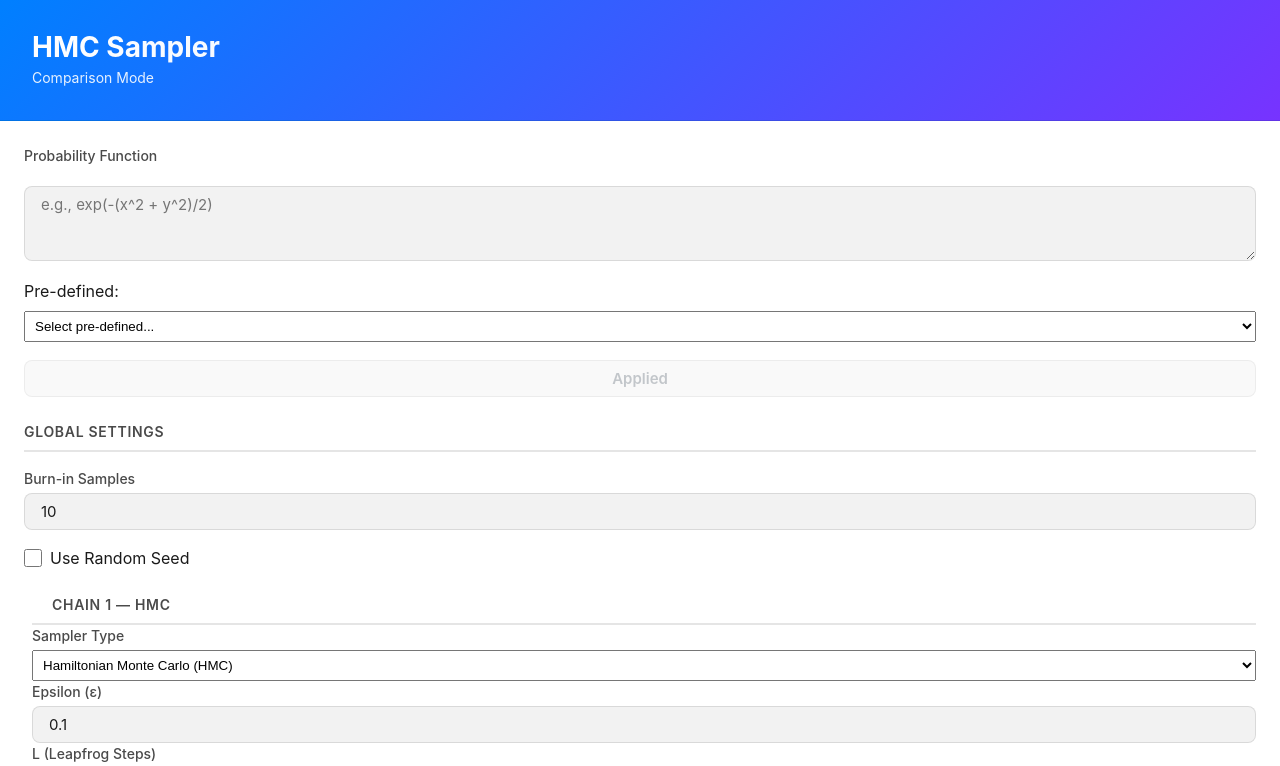
Test: Controls Component › Pre-defined Functions Selection › should update draft state when a pre-defined function is selected
Select Gaussian
Select "Gaussian" in the dropdown labelled "Pre-defined:" at (640,326), box left=24, top=311, right=1256, bottom=342
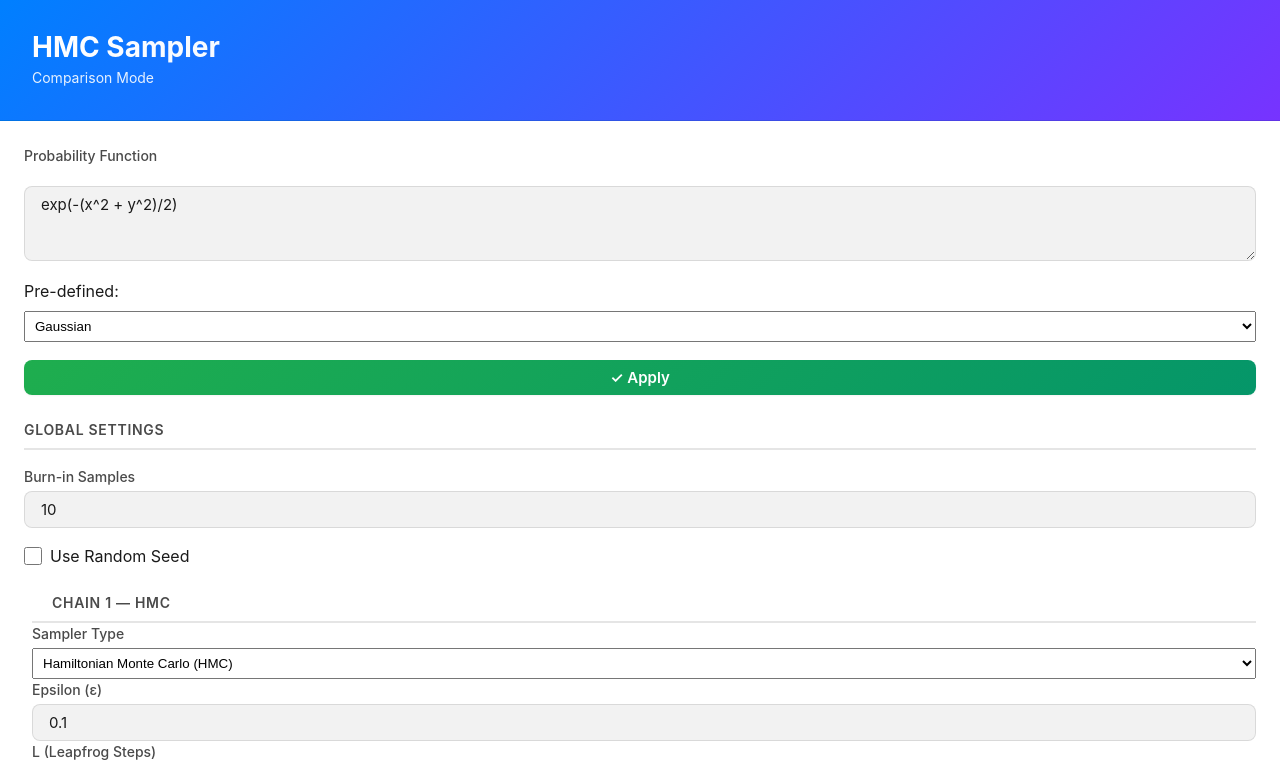
Expected: the text box with placeholder "e.g., exp(-(x^2 + y^2)/2)" holds "exp(-(x^2 + y^2)/2)", left=24, top=186, right=1256, bottom=261
